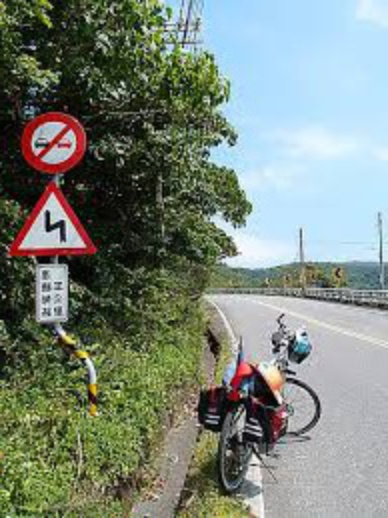Double_bend_left: (9, 179, 97, 256)
